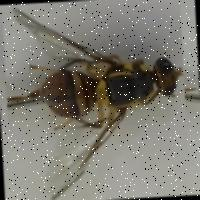Oriental-fruit-fly: (1, 0, 189, 200)
